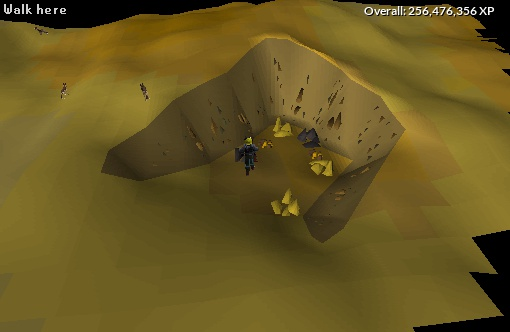depleted: (295, 125, 325, 151)
gold: (261, 188, 311, 221), (305, 155, 343, 184)
